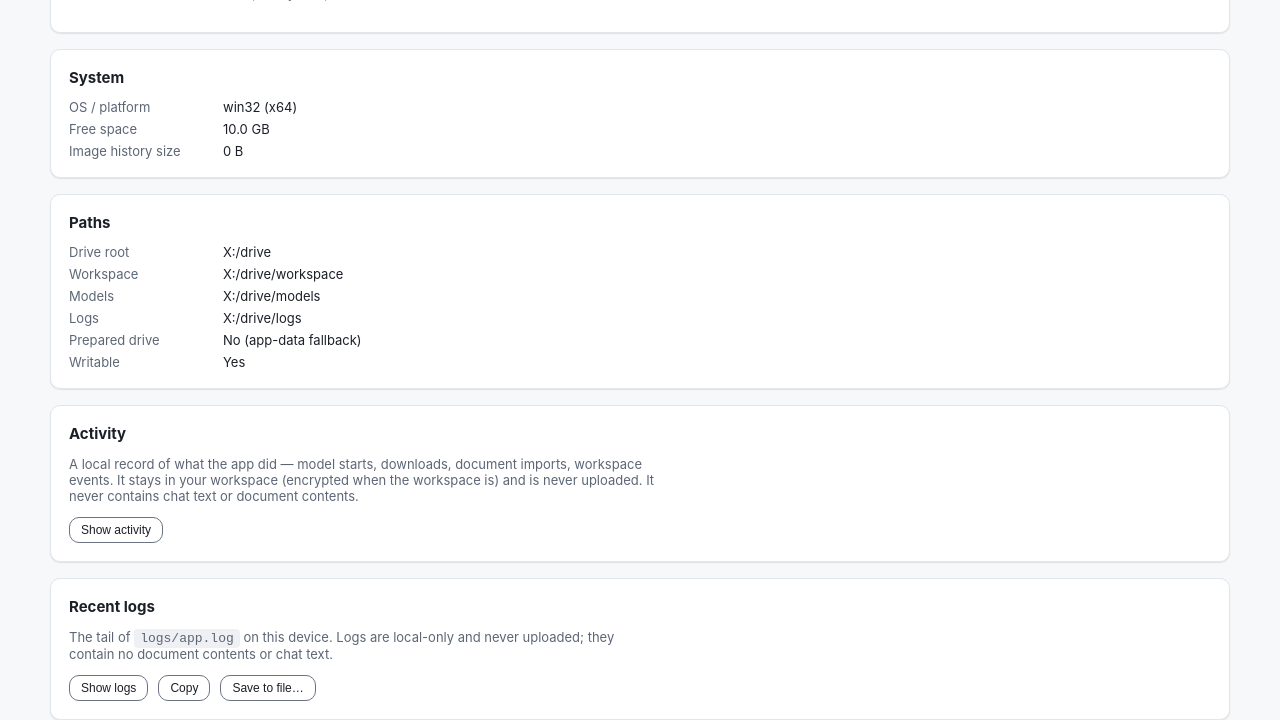
Settings → Diagnostics (advanced) — Activity panel (Phase 19) › loads earlier activity using the oldest loaded event as the cursor
The image size is (1280, 720).
(page scrolled)
Click the button "Show activity" at point(116, 530), box [69, 517, 163, 543]
(page scrolled)
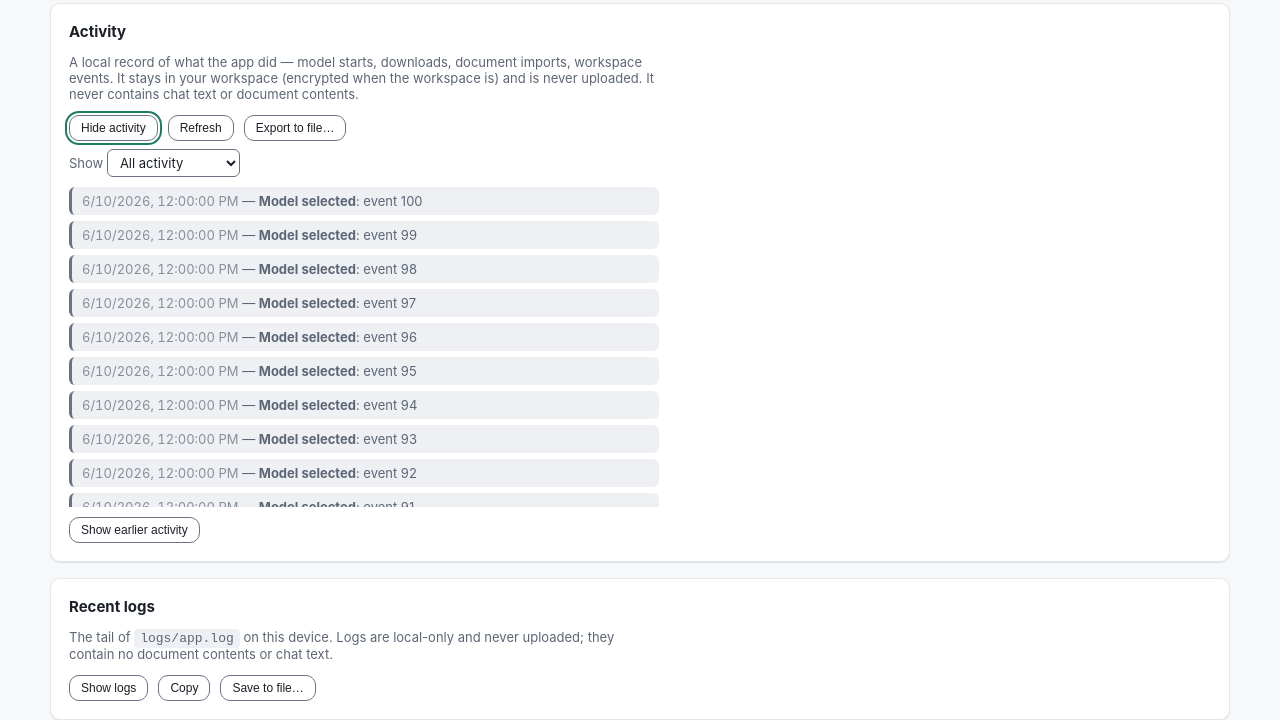
Click the button "Show earlier activity" at point(134, 530), box [69, 517, 200, 543]
(page scrolled)
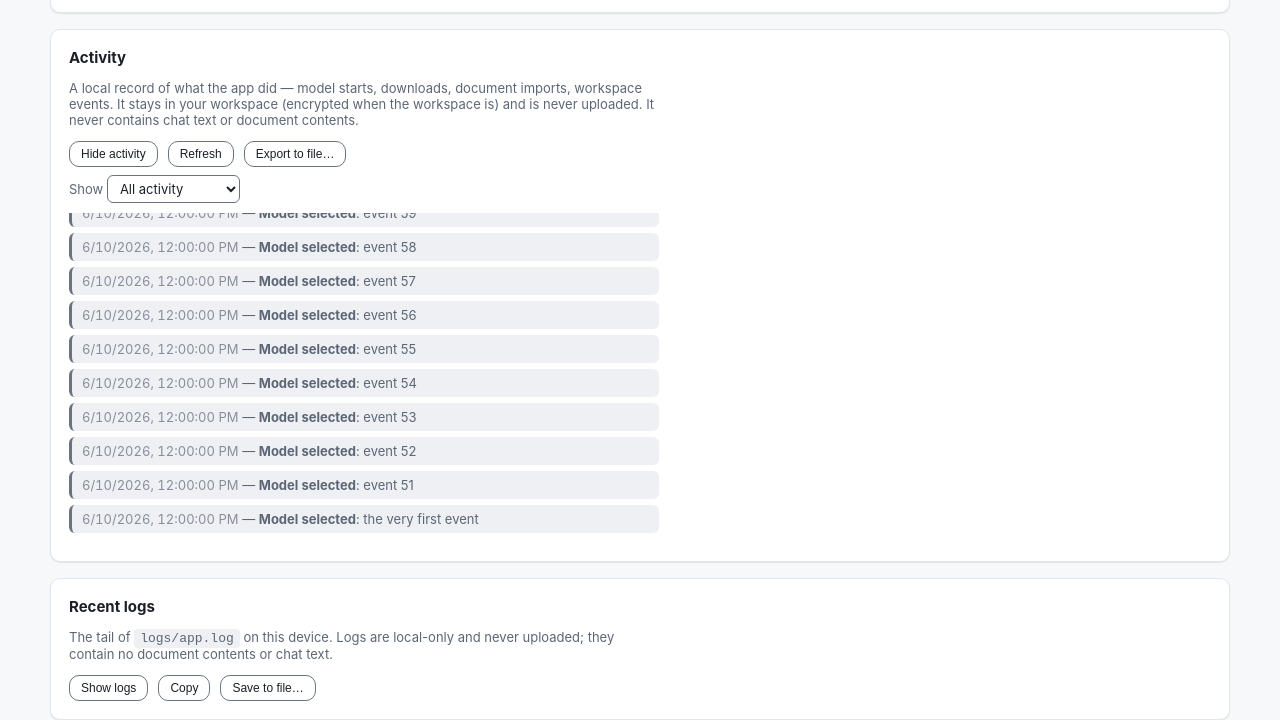
Check: the list item "the very first event" is shown, box [363, 511, 479, 527]
